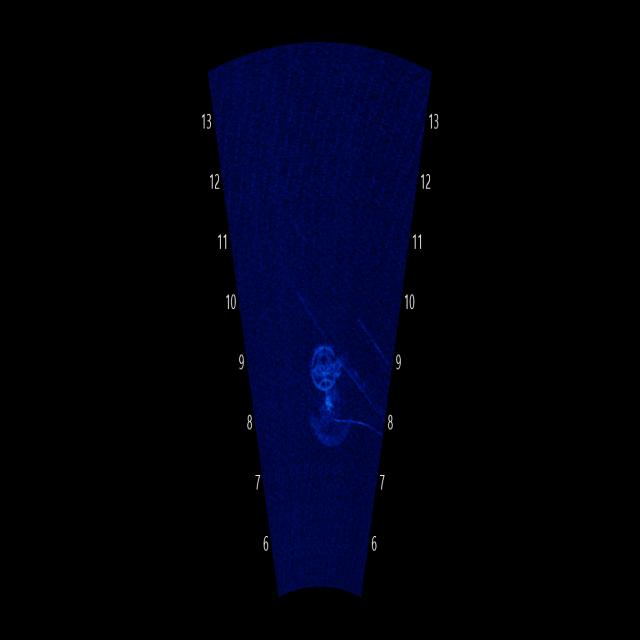circle: (300, 317, 355, 404)
